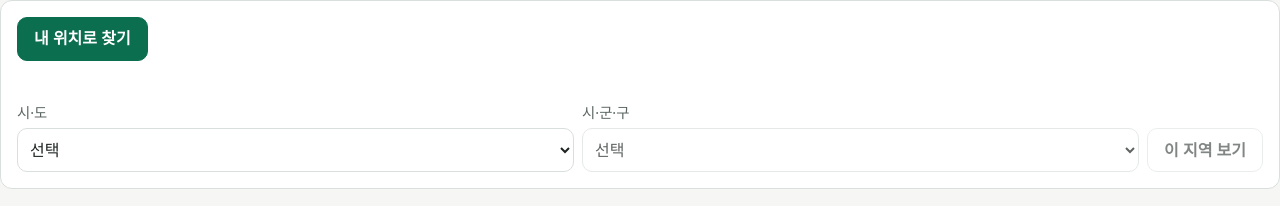
Test case: LocationPicker › geolocation 이 없는 브라우저
Click the button "내 위치로 찾기": (82, 39) [17,17,148,61]
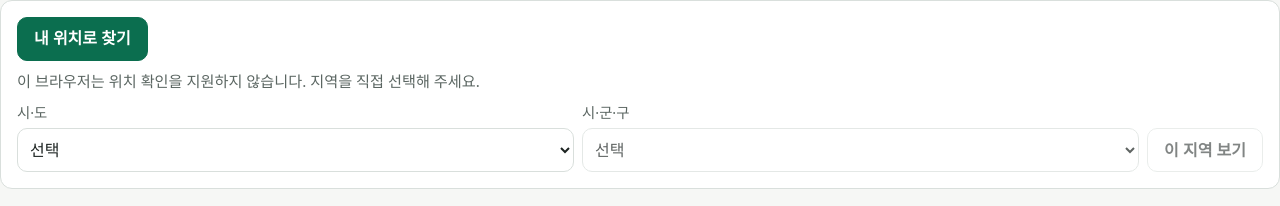
Expected: the message shows "위치 확인을 지원하지 않습니다", [17,71,480,91]
